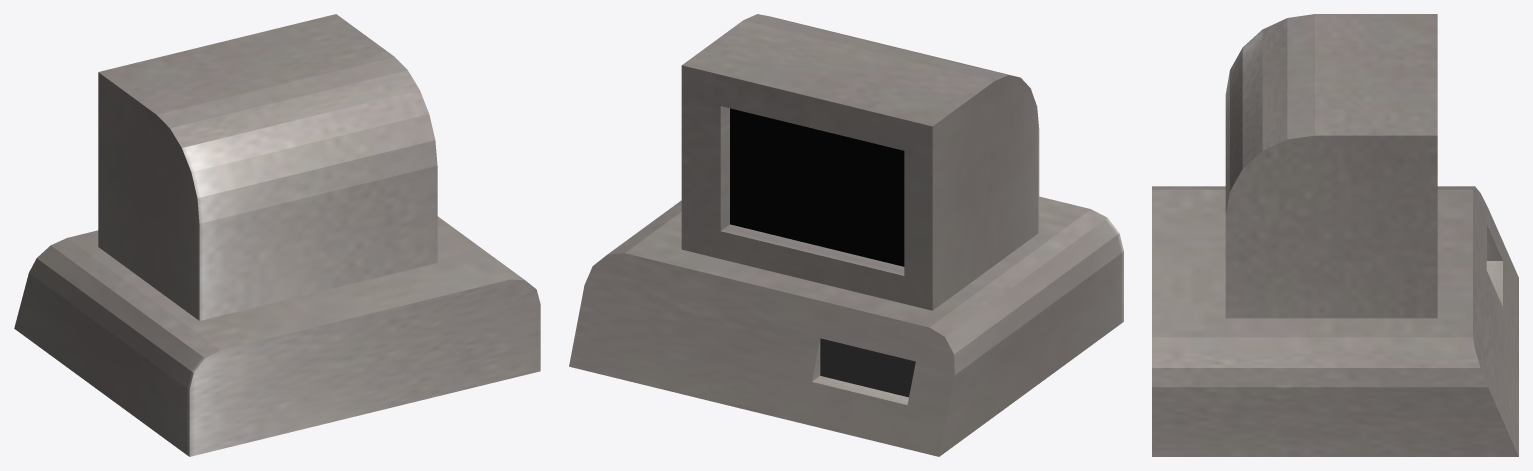
Rendered from desktop.glb.
3 renders of one model, left to right at view 1: azimuth 30°, elevation 25°; view 2: azimuth 150°, elevation 25°; view 3: azimuth 270°, elevation 25°, orthographic. The views are drawn at different scales.
Visible parts, largest first — view 1: Cube.001; view 2: Cube.001; view 3: Cube.001.
Boxes of the visible parts, bbox=[...] form: Cube.001: bbox=[14, 14, 540, 456]; Cube.001: bbox=[569, 14, 1123, 456]; Cube.001: bbox=[1152, 14, 1518, 456].
Size of the model in its own units: 1.24 by 0.9256 by 1.07.
3 materials, 1 textured.
